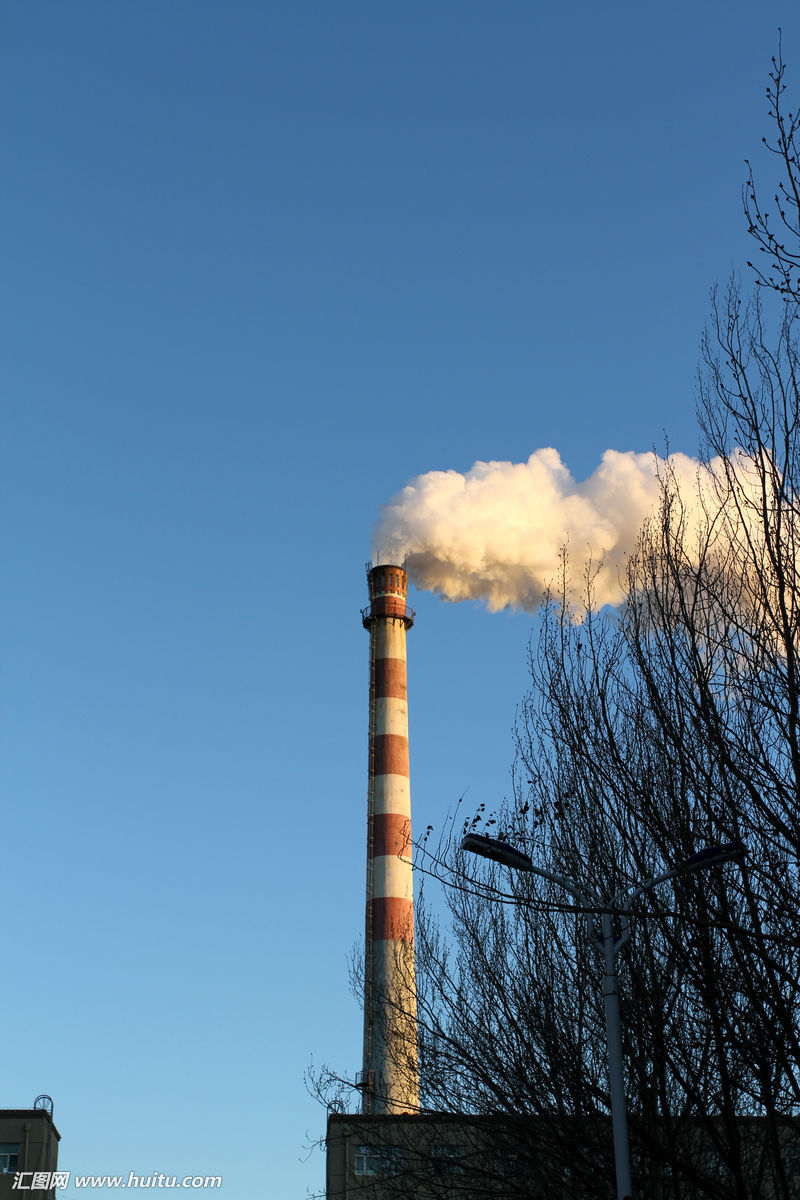dust: (324, 409, 772, 626)
